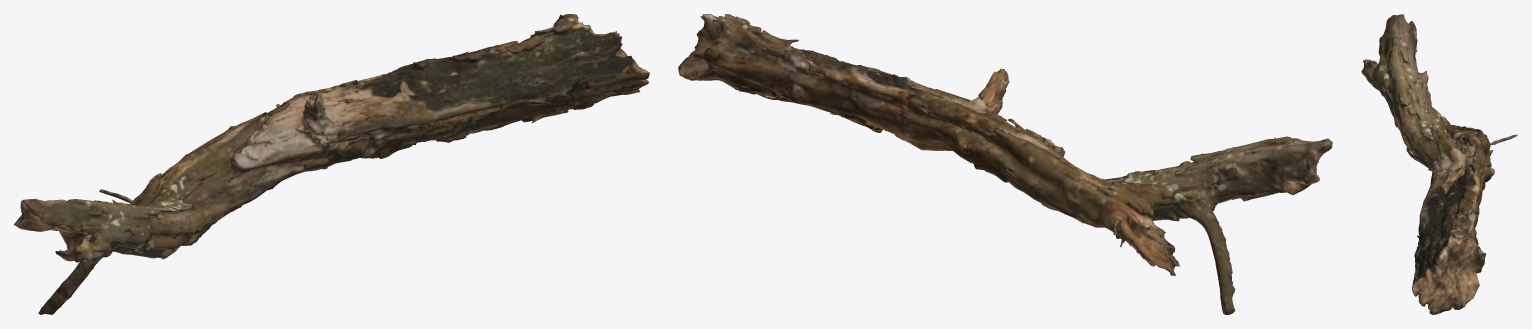
File: trunk_dead.glb
3 views of the same model, side by side, from view 1: azimuth 30°, elevation 25°; view 2: azimuth 150°, elevation 25°; view 3: azimuth 270°, elevation 25° (orthographic). The views are drawn at different scales.
Parts seen in each view (by area): view 1: dead_tree_trunk_02; view 2: dead_tree_trunk_02; view 3: dead_tree_trunk_02.
Boxes of the visible parts, x1,y1,x2,y2 form: dead_tree_trunk_02: (14,14,649,314); dead_tree_trunk_02: (678,14,1332,314); dead_tree_trunk_02: (1361,14,1517,314).
Bounding box in the file's own units: 4.05 × 1.05 × 1.06.
1 material, 1 textured.
